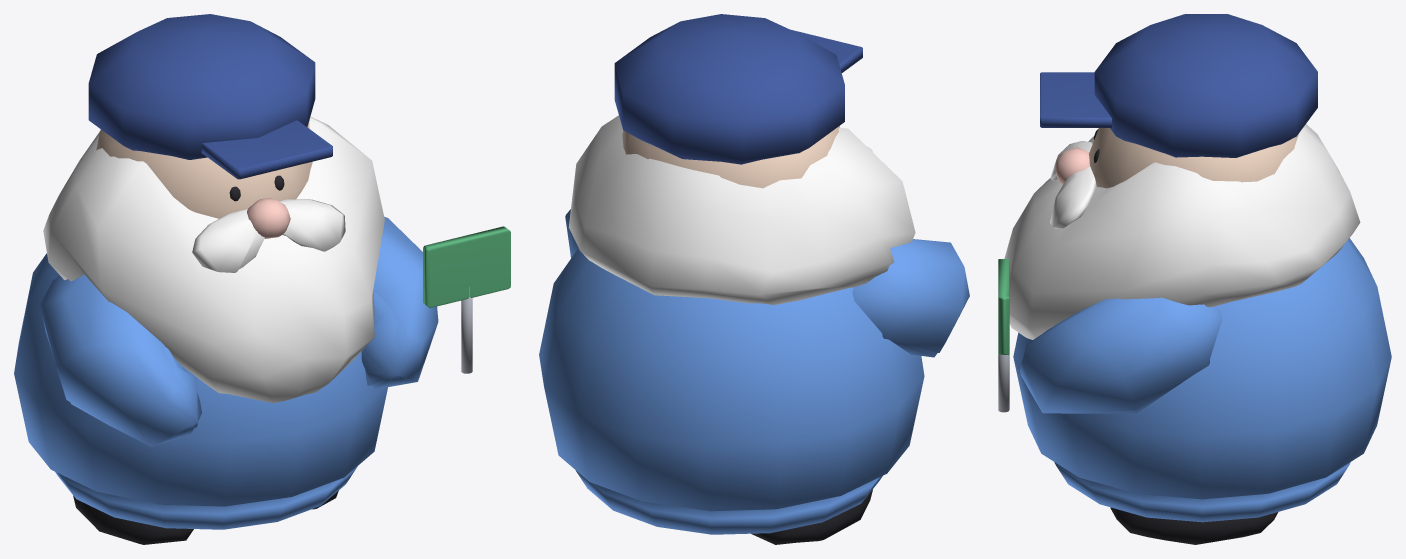
The model's file is bus.glb.
The picture shows the model from 3 angles, left to right: view 1: azimuth 30°, elevation 25°; view 2: azimuth 150°, elevation 25°; view 3: azimuth 270°, elevation 25°; orthographic projection. The views are drawn at different scales.
Visible parts, largest first — view 1: bus_red, bus_white, bus_navy, bus_skin, bus_green, bus_black, bus_nose, bus_grey; view 2: bus_red, bus_white, bus_navy, bus_skin, bus_black; view 3: bus_red, bus_white, bus_navy, bus_skin, bus_black, bus_green, bus_nose, bus_grey.
Part boxes in pixels (x1,y1,x2,y2): bus_red: [14, 216, 438, 529]; bus_white: [43, 116, 384, 402]; bus_navy: [88, 14, 332, 179]; bus_skin: [96, 120, 312, 218]; bus_green: [423, 226, 510, 307]; bus_black: [73, 175, 338, 544]; bus_nose: [247, 198, 290, 238]; bus_grey: [461, 287, 472, 373]; bus_red: [539, 209, 969, 534]; bus_white: [568, 115, 915, 305]; bus_navy: [614, 14, 862, 164]; bus_skin: [622, 126, 839, 188]; bus_black: [751, 489, 872, 544]; bus_red: [1013, 238, 1391, 522]; bus_white: [1004, 124, 1360, 339]; bus_navy: [1040, 14, 1317, 157]; bus_skin: [1089, 128, 1299, 188]; bus_black: [1094, 128, 1278, 544]; bus_green: [998, 259, 1009, 355]; bus_nose: [1054, 147, 1090, 184]; bus_grey: [998, 353, 1009, 412].
Size of the model in its own units: 2.35 by 2.71 by 2.08.
